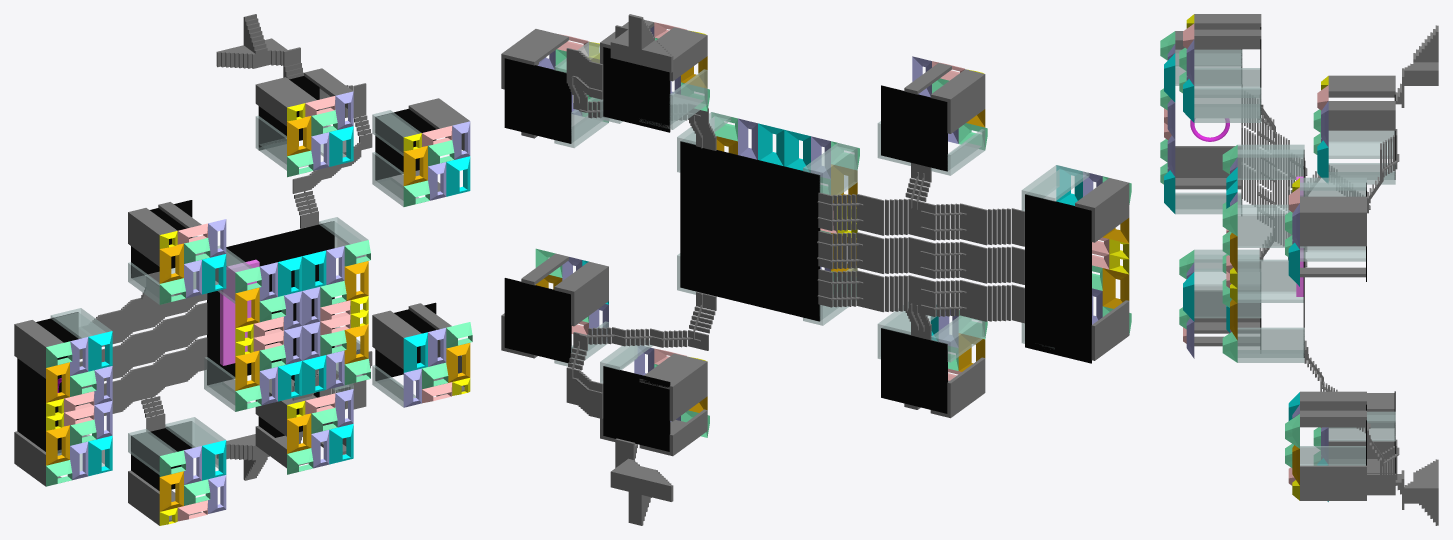
File: Wendys Theater.fbx
The picture shows the model from 3 angles, left to right: view 1: azimuth 30°, elevation 25°; view 2: azimuth 150°, elevation 25°; view 3: azimuth 270°, elevation 25°; orthographic projection. The views are drawn at different scales.
Visible parts, largest first — view 1: Floor, C, Cluster B, D, Corner Walls - Glass, A, B, Stairs B, E, Wall Variations A, F, Cluster C - Stage (+1 smaller); view 2: Floor, Stairs B, Cluster B, Corner Walls - Glass, Wall Variations A, C, D, B, Cluster C - Stage, A, E, F; view 3: Corner Walls - Glass, Cluster B, Wall Variations A, Stairs B, D, Cluster C - Stage, A, C, E, B, Floor, F.
Part boxes in pixels (<box>): Floor: <box>17,76,436,490</box>; C: <box>70,91,470,513</box>; Cluster B: <box>79,14,469,359</box>; D: <box>46,110,472,505</box>; Corner Walls - Glass: <box>50,110,421,474</box>; A: <box>88,126,470,480</box>; B: <box>46,116,470,511</box>; Stairs B: <box>78,302,372,480</box>; E: <box>64,96,452,521</box>; Wall Variations A: <box>128,303,464,525</box>; F: <box>46,103,470,525</box>; Cluster C - Stage: <box>14,320,63,486</box>; Floor: <box>504,47,1091,451</box>; Stairs B: <box>566,231,1024,525</box>; Cluster B: <box>501,14,1024,246</box>; Corner Walls - Glass: <box>554,41,1089,383</box>; Wall Variations A: <box>501,253,985,456</box>; C: <box>537,26,1102,421</box>; D: <box>535,38,1131,437</box>; B: <box>535,56,1129,412</box>; Cluster C - Stage: <box>1075,178,1129,360</box>; A: <box>582,123,1082,340</box>; E: <box>557,22,1109,380</box>; F: <box>589,30,1129,361</box>; Corner Walls - Glass: <box>1175,49,1395,465</box>; Cluster B: <box>1194,14,1438,277</box>; Wall Variations A: <box>1194,290,1395,500</box>; Stairs B: <box>1241,124,1438,525</box>; D: <box>1160,31,1321,467</box>; Cluster C - Stage: <box>1175,31,1241,189</box>; A: <box>1164,53,1328,501</box>; C: <box>1167,39,1328,464</box>; E: <box>1164,23,1328,485</box>; B: <box>1230,233,1299,485</box>; Floor: <box>1241,27,1395,473</box>; F: <box>1186,14,1328,500</box>.
Size of the model in its own units: 79.68 by 73.06 by 37.27.
